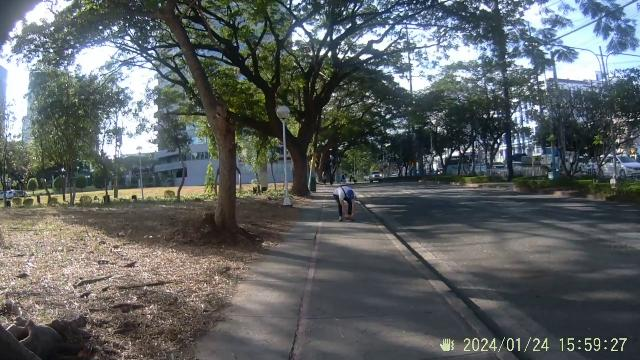lamp_post: (267, 103, 305, 209)
tree: (186, 8, 262, 242), (284, 71, 324, 206)
